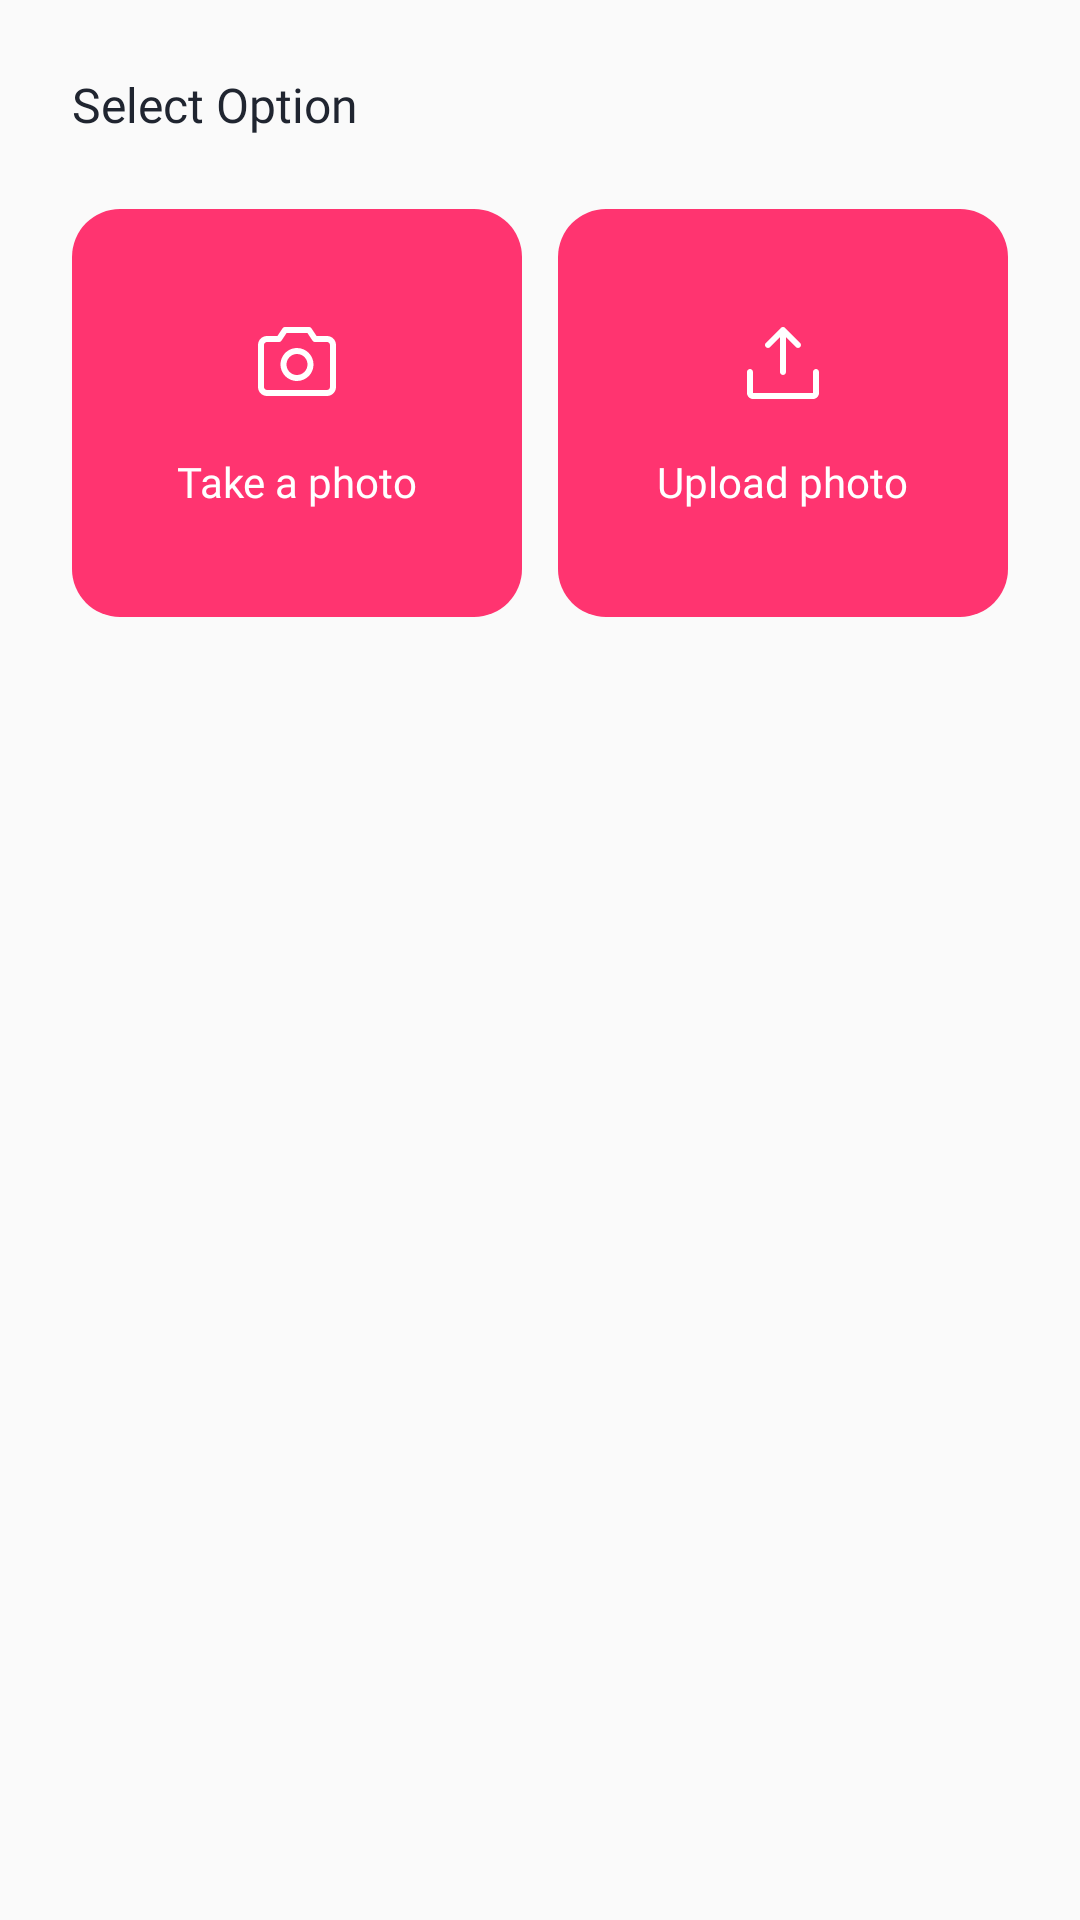

Named icons in this screenshot (1080px x 1920px) and their bounding boxes, (x1, y1, x2, y2):
camera: (258, 327, 336, 396)
